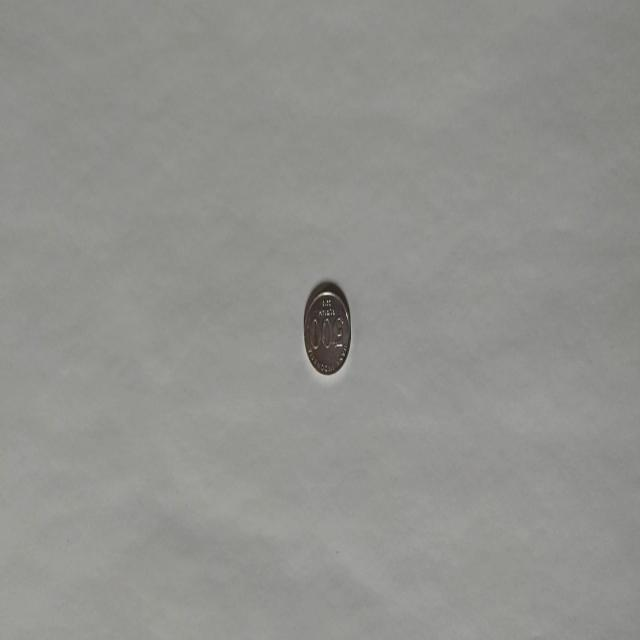lima ratus rupiah: (303, 280, 352, 376)
